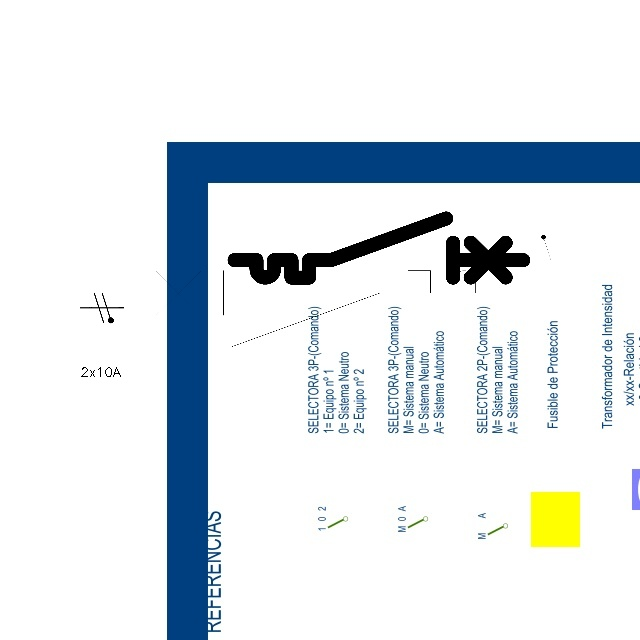interruptor_termomagnetico: (123, 261, 512, 356), (227, 211, 530, 285)
